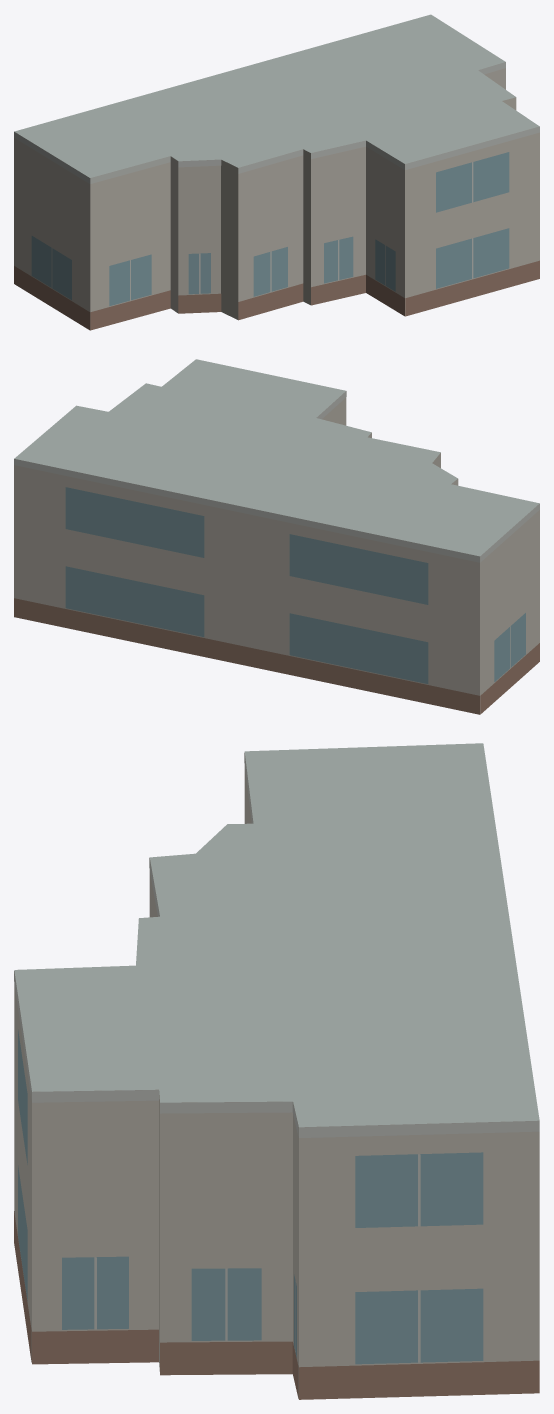
The model's file is survey-upis-32586019.glb.
3 renders of one model, top to bottom at view 1: azimuth 30°, elevation 25°; view 2: azimuth 150°, elevation 25°; view 3: azimuth 270°, elevation 25°, orthographic. The views are drawn at different scales.
Parts seen in each view (by area): view 1: survey-upis-32586019.tmp; view 2: survey-upis-32586019.tmp; view 3: survey-upis-32586019.tmp.
Part boxes in pixels (box(x1,y1,x2,y2)): survey-upis-32586019.tmp: box(14, 14, 539, 330); survey-upis-32586019.tmp: box(14, 359, 539, 714); survey-upis-32586019.tmp: box(14, 743, 539, 1399).
Bounding box in the file's own units: 18.45 × 6.1 × 10.67.
